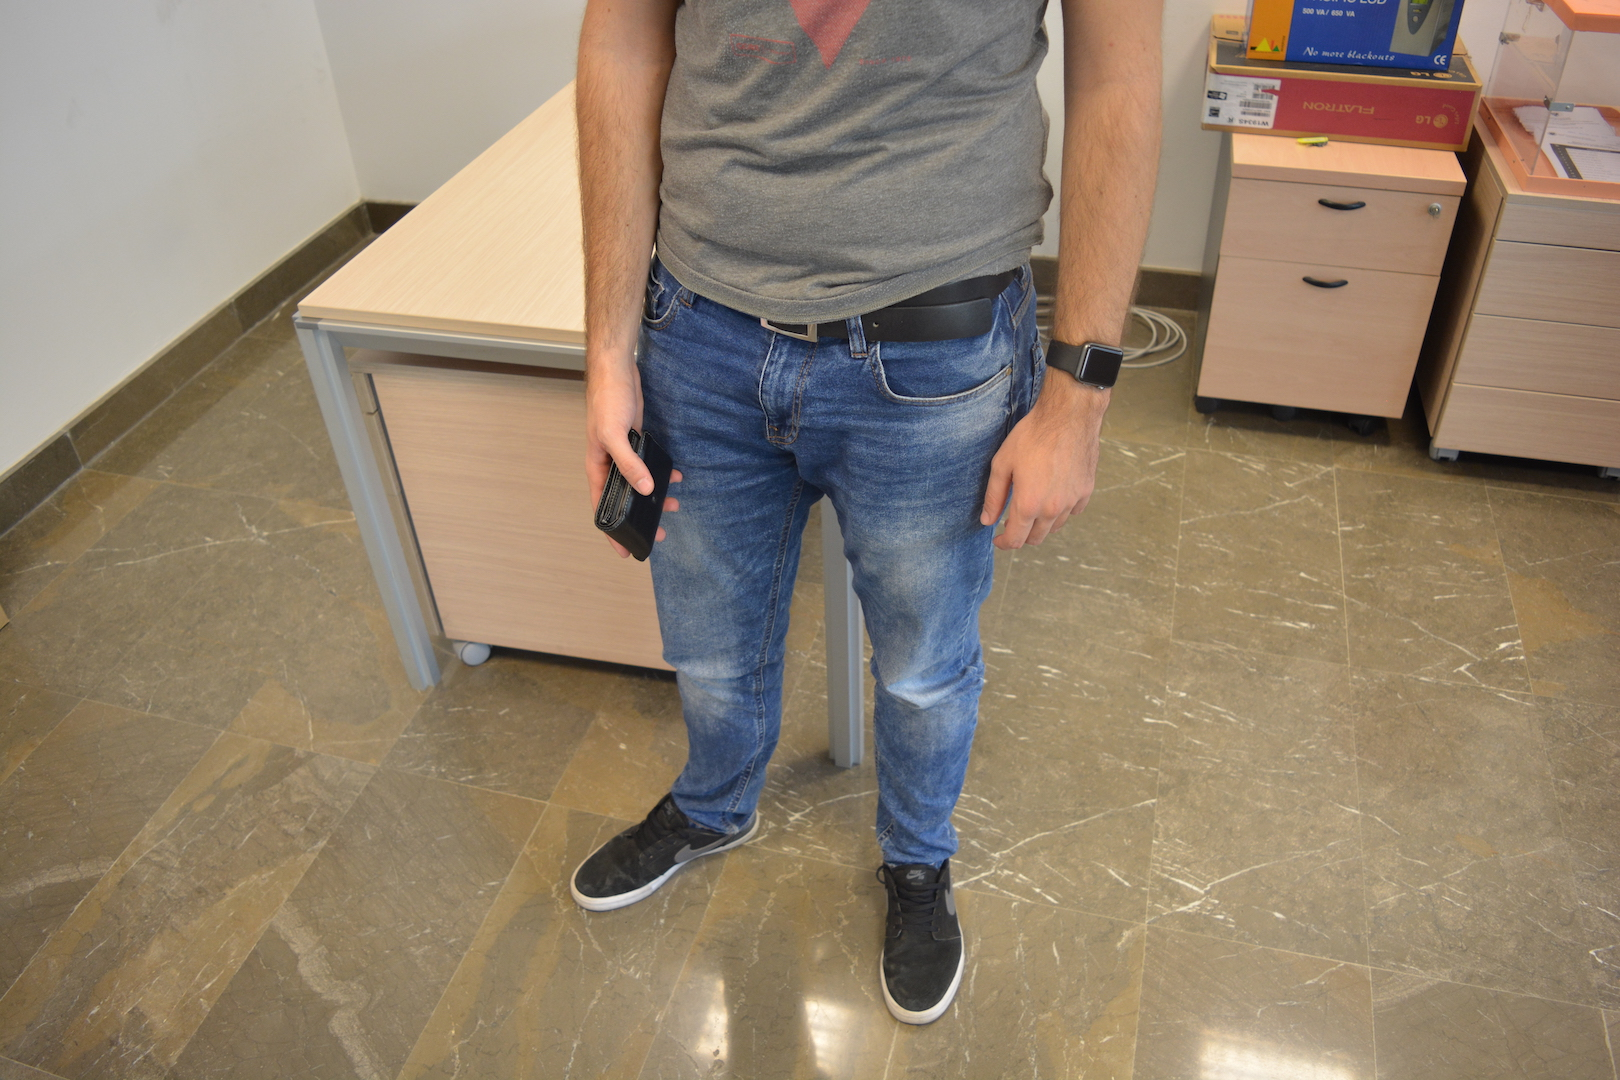monedero: (593, 428, 674, 560)
